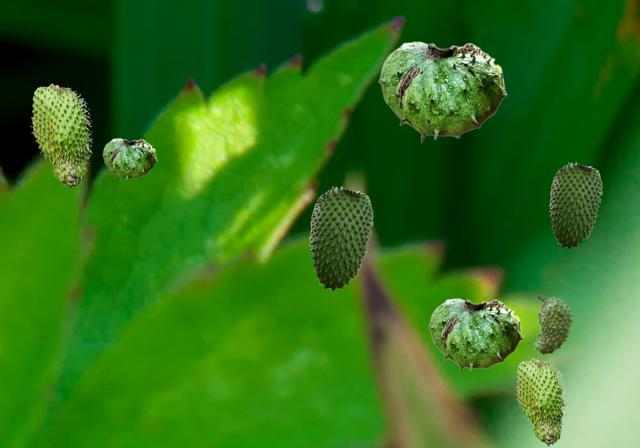guyabano: (378, 41, 506, 142), (428, 298, 522, 372), (309, 186, 372, 291), (30, 83, 92, 188), (549, 162, 601, 249), (515, 358, 566, 445), (533, 295, 574, 355), (102, 138, 156, 180)
